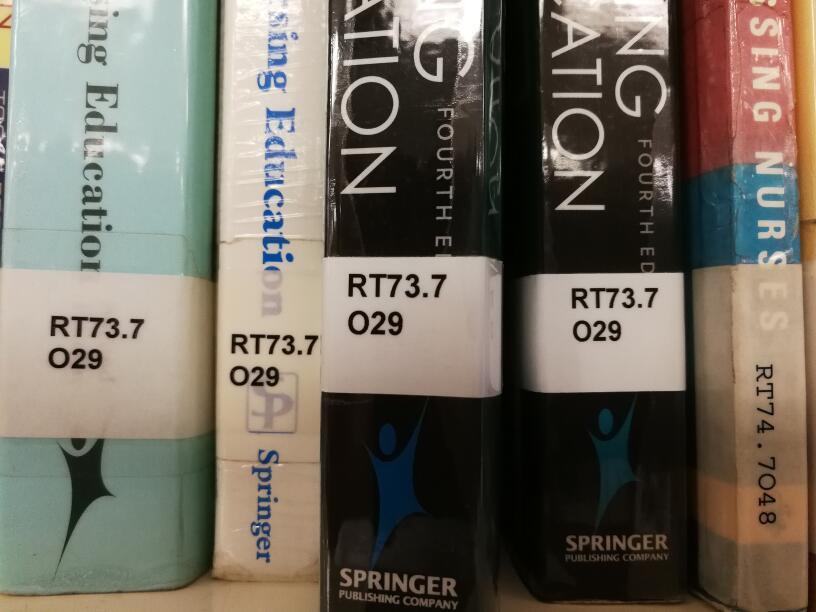booklabel: (344, 270, 452, 338), (47, 311, 145, 372), (567, 285, 662, 344), (229, 329, 321, 388), (749, 361, 780, 526)
